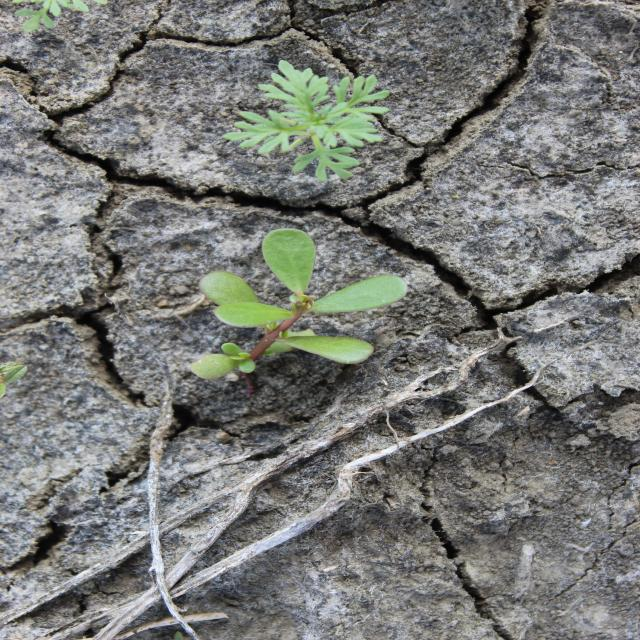Purslane: (187, 227, 411, 383)
Ragweed: (220, 58, 393, 185), (8, 0, 112, 36)
